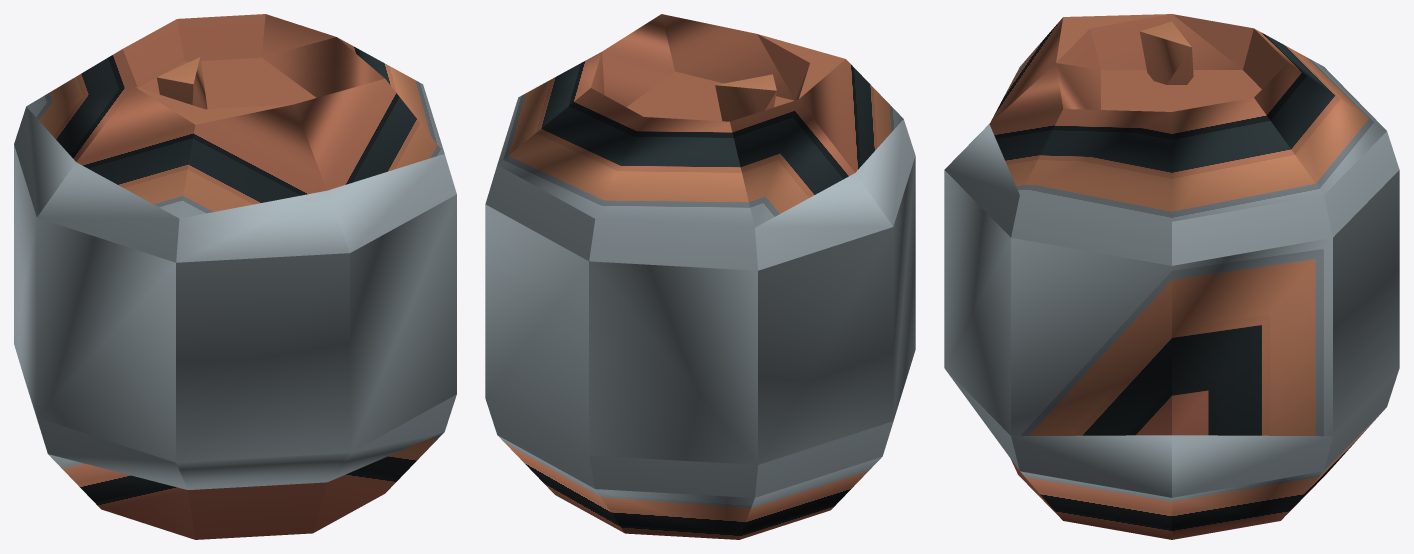
Rendered from barrel_small-mid.glb.
The picture shows the model from 3 angles, left to right: view 1: azimuth 30°, elevation 25°; view 2: azimuth 150°, elevation 25°; view 3: azimuth 270°, elevation 25°; orthographic projection. The views are drawn at different scales.
Visible parts, largest first — view 1: barrel_small; view 2: barrel_small; view 3: barrel_small.
Part boxes in pixels (x1,y1,x2,y2): barrel_small: (14, 14, 456, 539); barrel_small: (485, 14, 915, 539); barrel_small: (944, 14, 1399, 539).
Bounding box in the file's own units: 1 × 1.01 × 1.
1 material, 1 textured.
